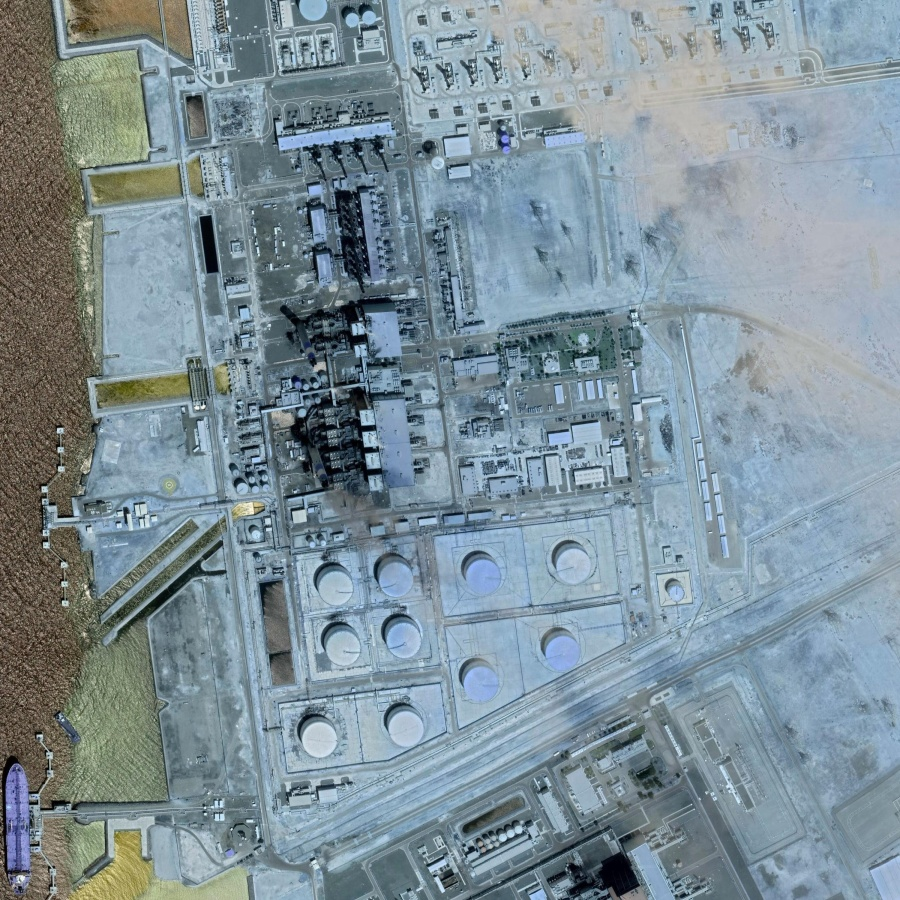PowerPlant: (247, 516, 627, 779), (227, 177, 449, 493)
